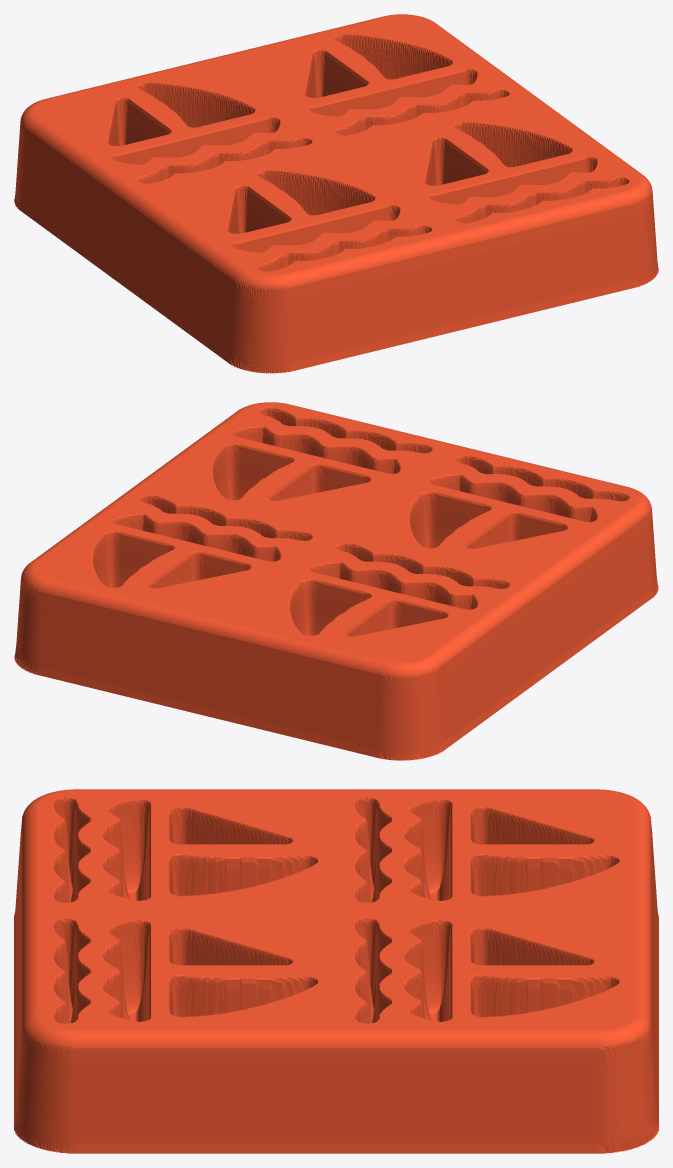
File: mold.glb
The picture shows the model from 3 angles, top to bottom: view 1: azimuth 30°, elevation 25°; view 2: azimuth 150°, elevation 25°; view 3: azimuth 270°, elevation 25°; orthographic projection. The views are drawn at different scales.
Parts seen in each view (by area): view 1: geometry_0; view 2: geometry_0; view 3: geometry_0.
Part boxes in pixels (x1=…): geometry_0: x1=14, y1=14, x2=658, y2=373; geometry_0: x1=14, y1=402, x2=658, y2=760; geometry_0: x1=14, y1=789, x2=658, y2=1153.
Size of the model in its own units: 0.0898 by 0.0182 by 0.0942.
